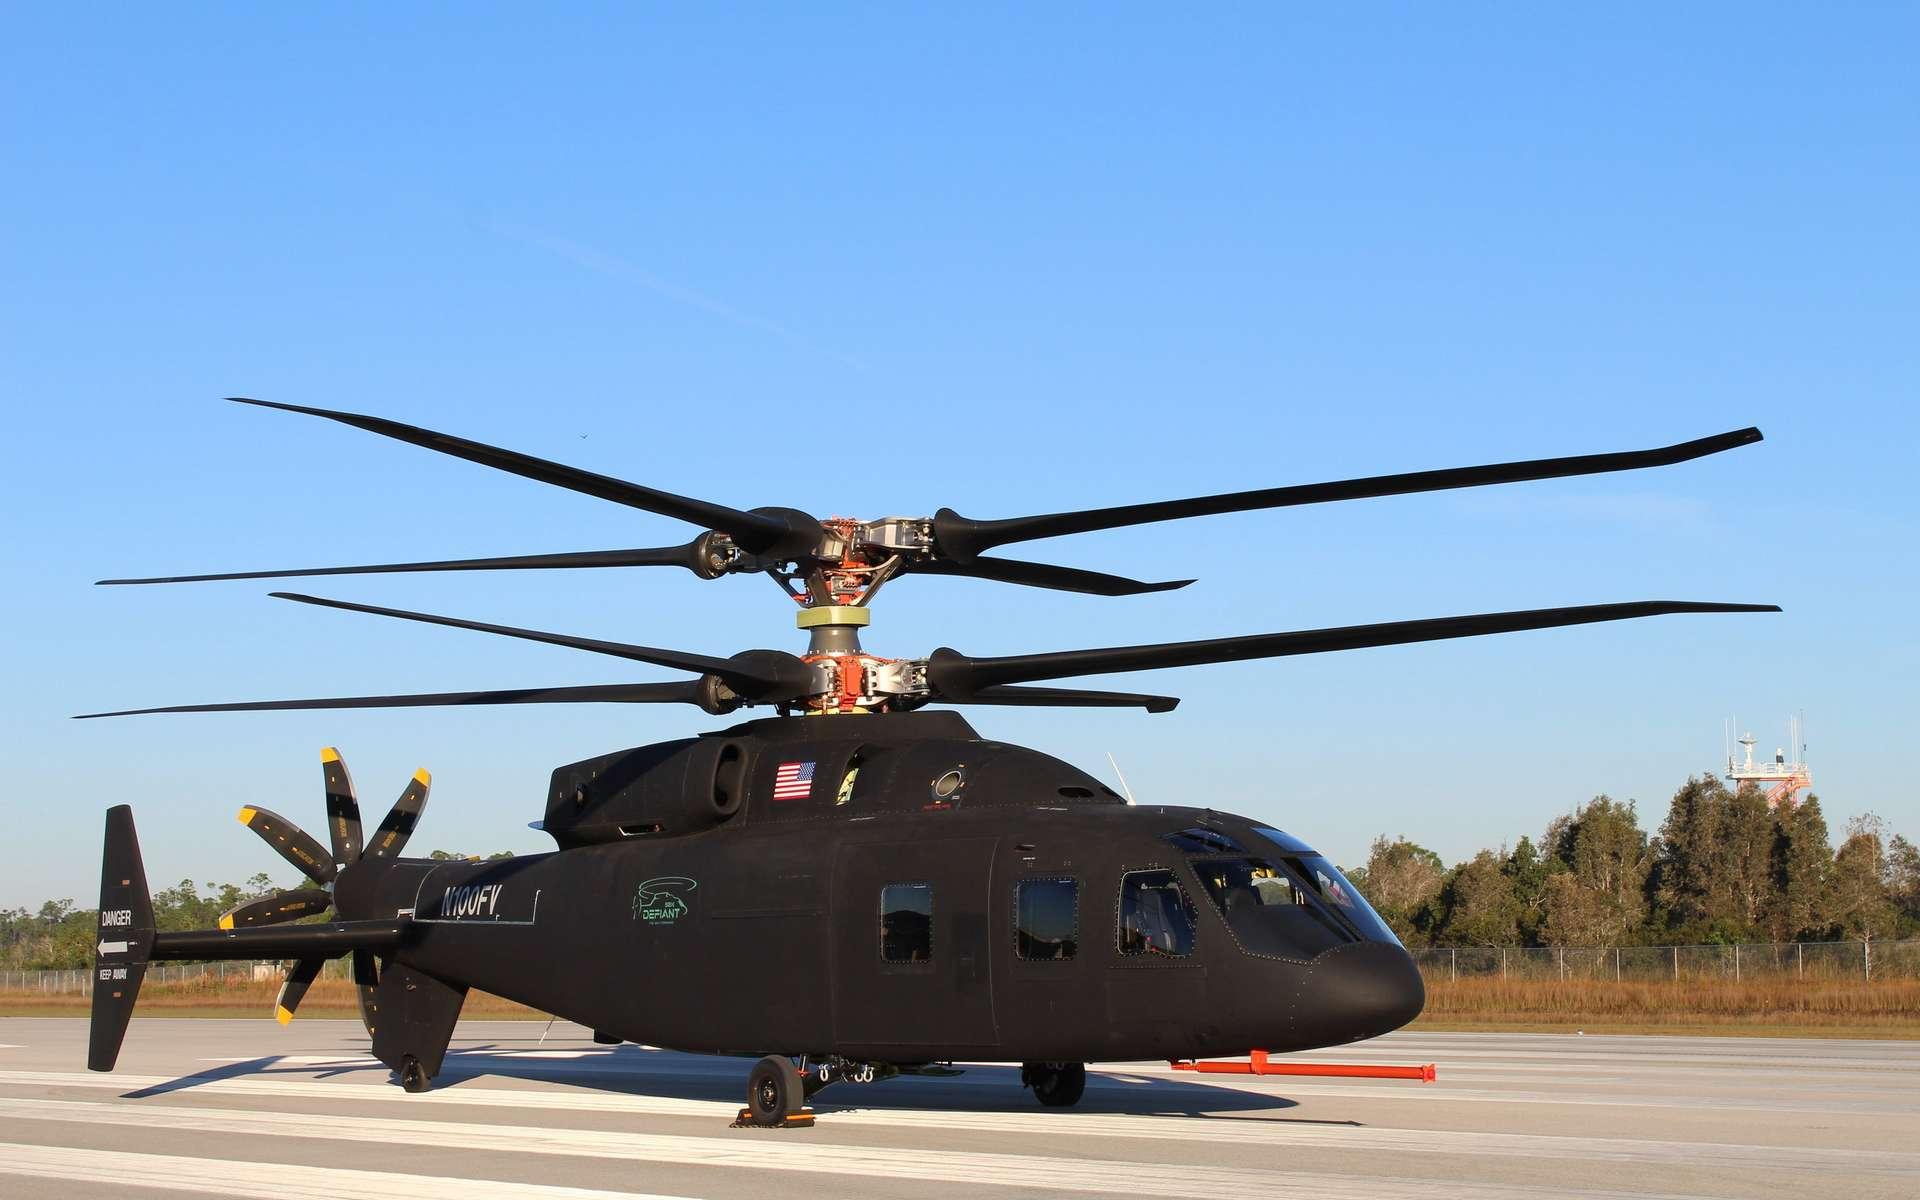Aeronef_militaire: (37, 377, 1791, 1123)
